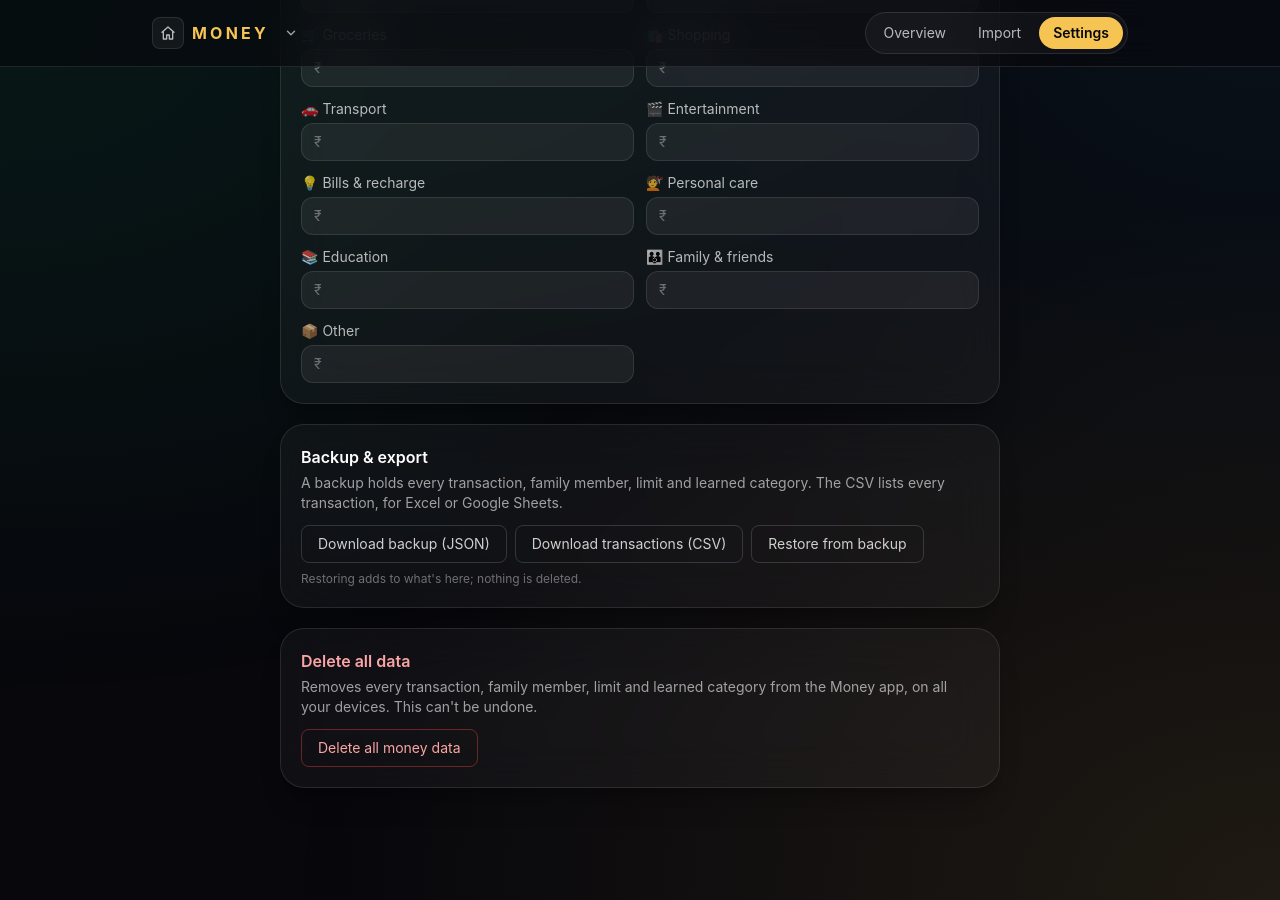
MoneySettingsPage › says so when it can't delete while offline
(page scrolled)
Click the button "Delete all money data" at (389,748), box [301,729,478,767]
(page scrolled)
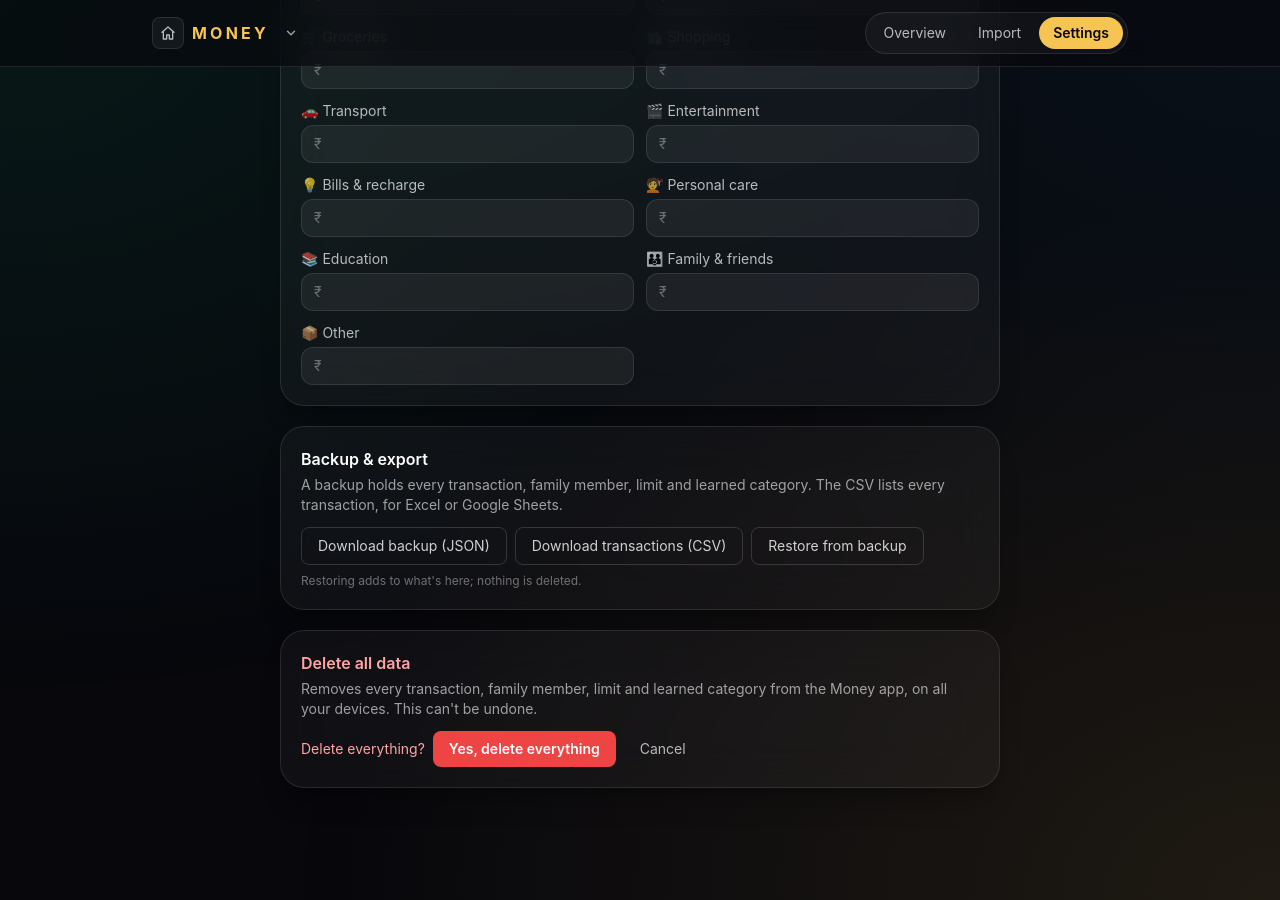
Click the button "Yes, delete everything" at (524,749), box [433,731,616,767]
(page scrolled)
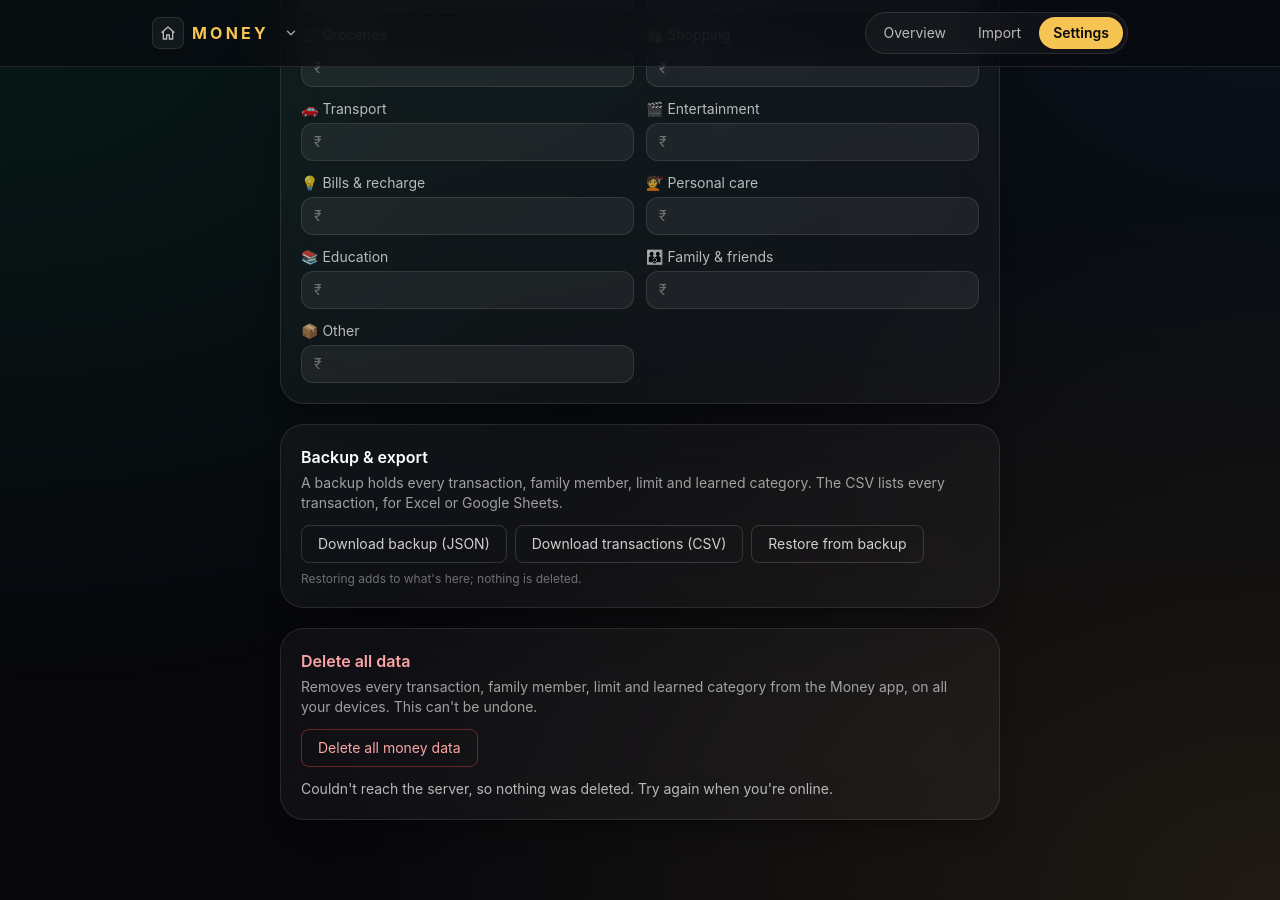
Now the message shows "nothing was deleted", box [301,780,833,797]
